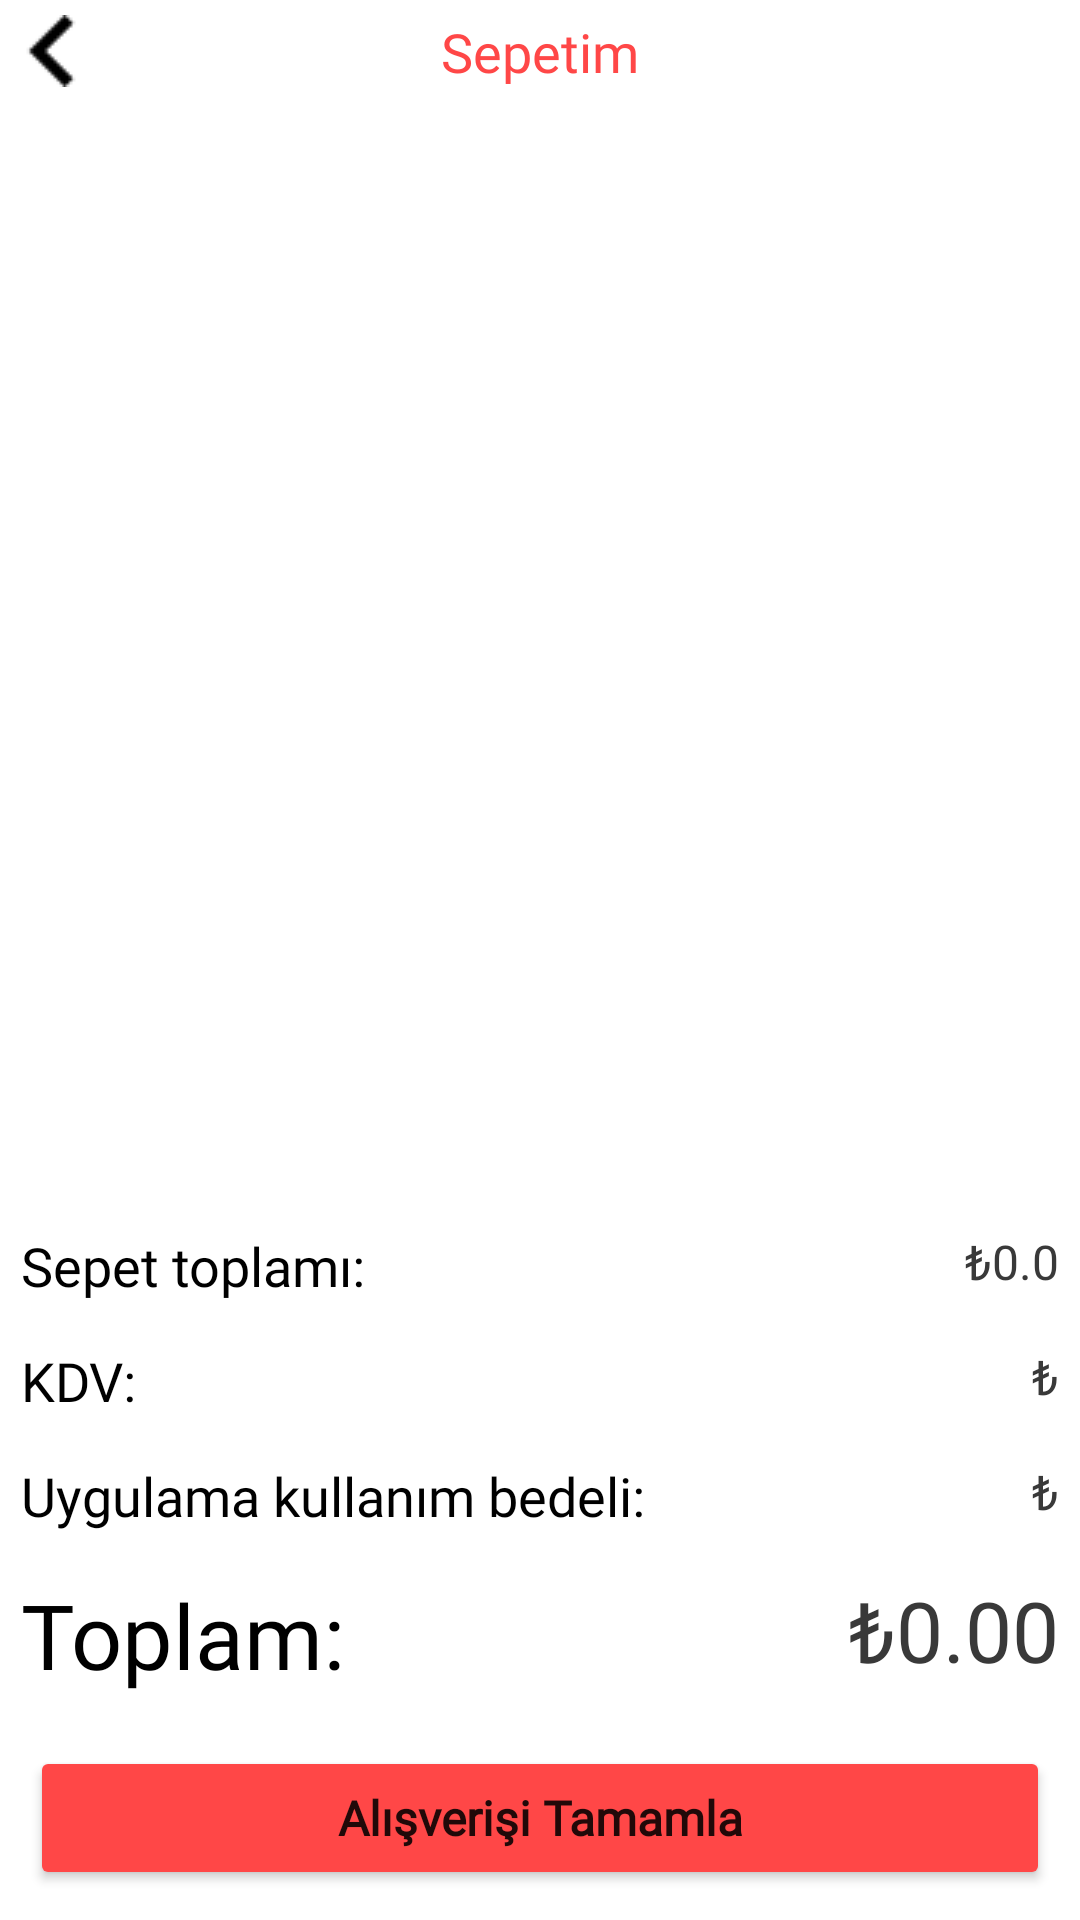

Where icons sit on this 1080*1920 app screen, as (x1, y1, x2, y2):
back: (29, 15, 74, 87)
